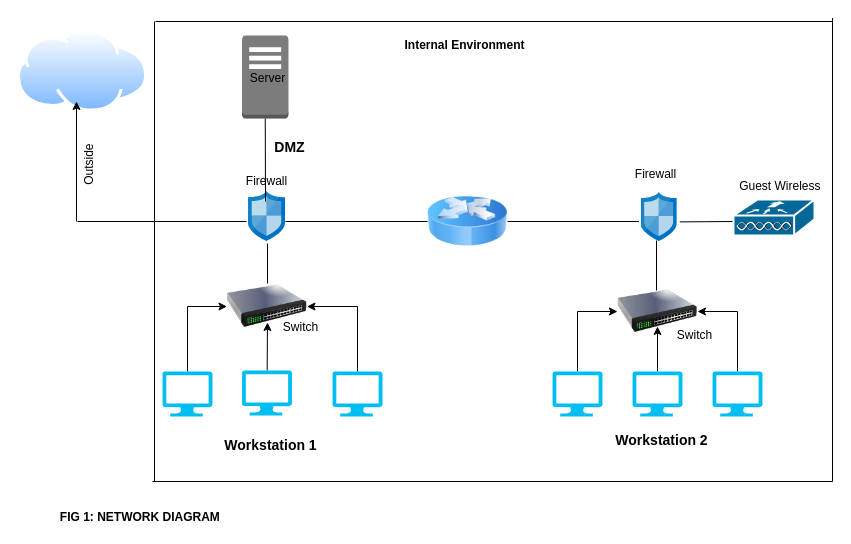
This 851x544 diagram has some shape labels left out. The box of each missing label's shape, as (x1, y1, x2, y2) in pixels:
Internet: (17, 30, 147, 112)
Router: (427, 181, 507, 261)
